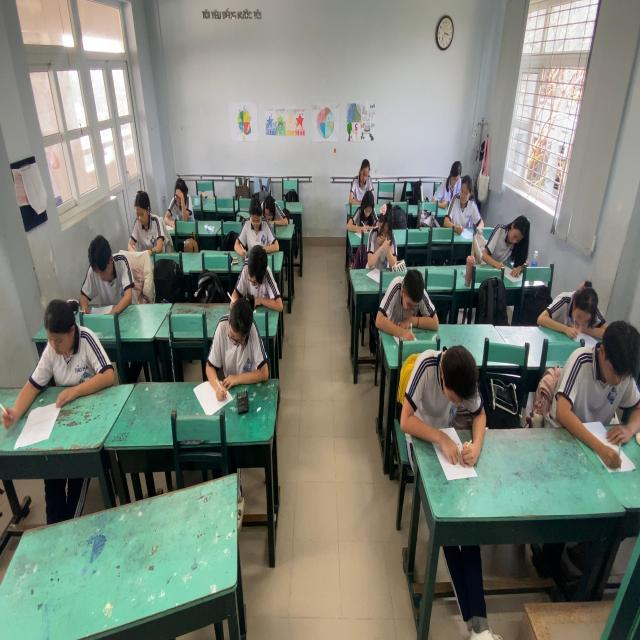not_cheating: (568, 320, 640, 465), (408, 341, 481, 482), (38, 290, 102, 401), (203, 297, 264, 393), (542, 268, 604, 340), (385, 266, 436, 340), (233, 231, 277, 316), (482, 208, 530, 278), (364, 198, 406, 274), (84, 233, 126, 307), (340, 182, 380, 237), (246, 199, 281, 258), (450, 173, 483, 235), (132, 187, 160, 250), (166, 168, 195, 227), (260, 186, 291, 234), (350, 151, 376, 199), (440, 155, 462, 199)
